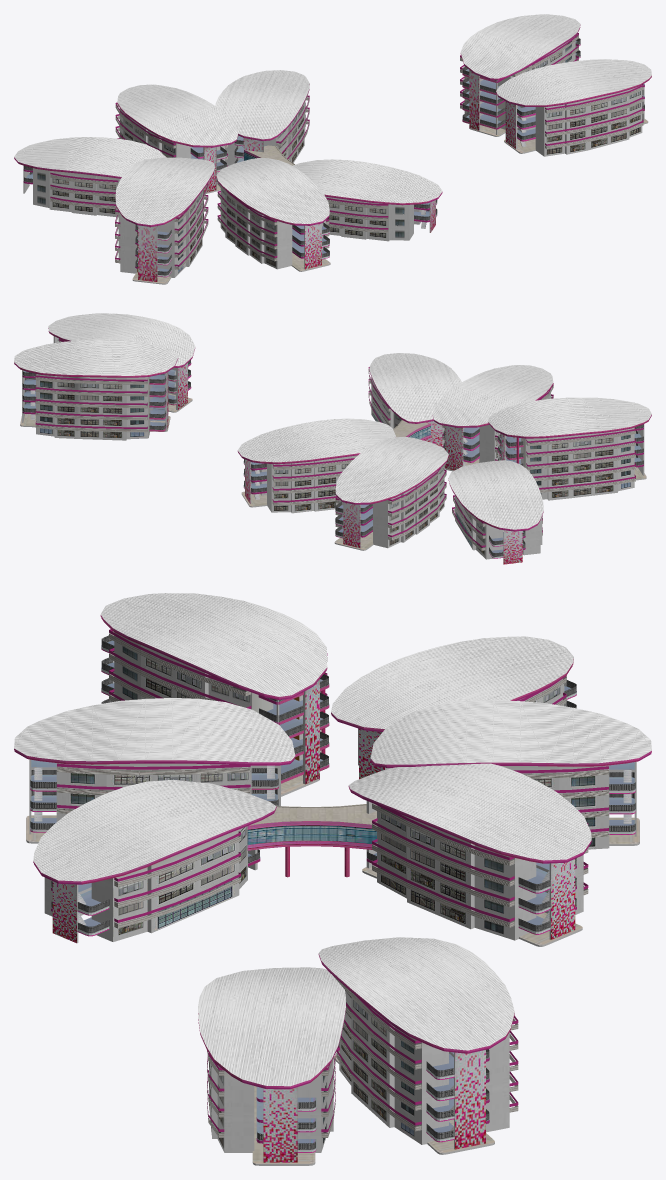
The picture shows the model from 3 angles, top to bottom: view 1: azimuth 30°, elevation 25°; view 2: azimuth 150°, elevation 25°; view 3: azimuth 270°, elevation 25°; orthographic projection. The views are drawn at different scales.
Visible parts, largest first — view 1: 5c3c44f8ad0223c40c9d1277.001; view 2: 5c3c44f8ad0223c40c9d1277.001; view 3: 5c3c44f8ad0223c40c9d1277.001.
Boxes of the visible parts, x1=… form: 5c3c44f8ad0223c40c9d1277.001: x1=14, y1=14, x2=651, y2=284; 5c3c44f8ad0223c40c9d1277.001: x1=14, y1=313, x2=651, y2=564; 5c3c44f8ad0223c40c9d1277.001: x1=14, y1=593, x2=651, y2=1165.
Bounding box in the file's own units: 171 × 19.82 × 98.21.
1 material, 1 textured.
